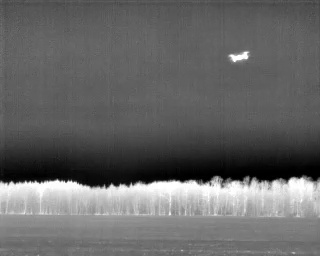DRONE: (224, 46, 255, 68)
